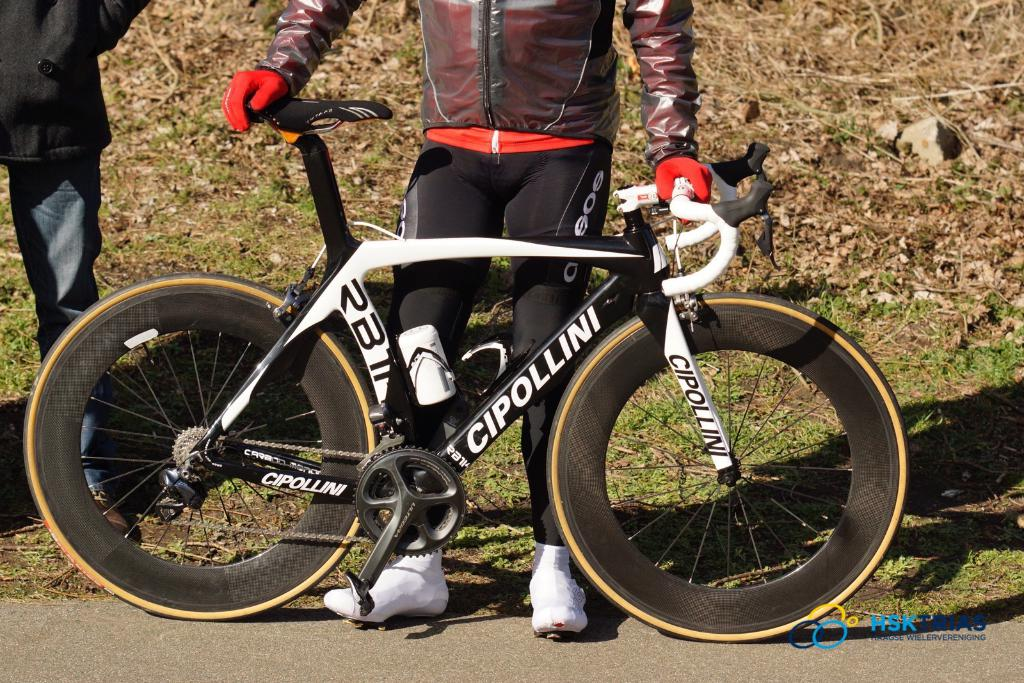Bike: (23, 97, 853, 683)
